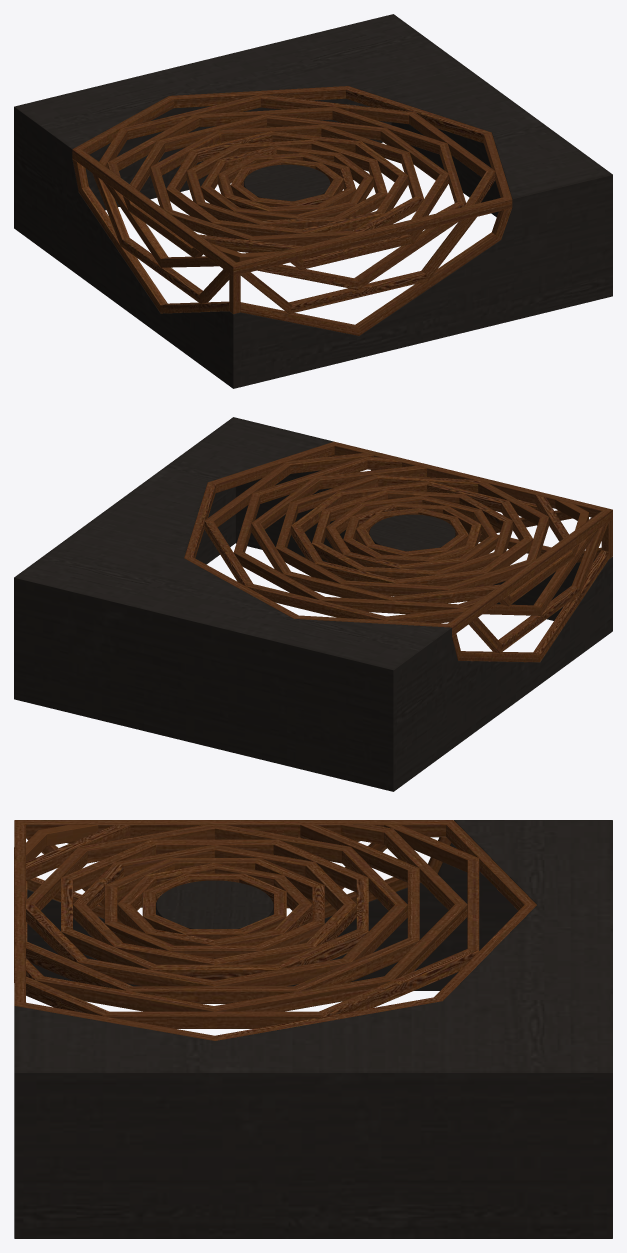
The model's file is modern_coffee_table_02.gltf.
The picture shows the model from 3 angles, top to bottom: view 1: azimuth 30°, elevation 25°; view 2: azimuth 150°, elevation 25°; view 3: azimuth 270°, elevation 25°; orthographic projection. The views are drawn at different scales.
Visible parts, largest first — view 1: modern_coffee_table_02; view 2: modern_coffee_table_02; view 3: modern_coffee_table_02.
Boxes of the visible parts, bbox=[...] form: modern_coffee_table_02: bbox=[14, 14, 612, 388]; modern_coffee_table_02: bbox=[14, 417, 612, 791]; modern_coffee_table_02: bbox=[14, 820, 612, 1238].
Size of the model in its own units: 1.2 by 0.3692 by 1.2.
2 materials, 2 textured.
